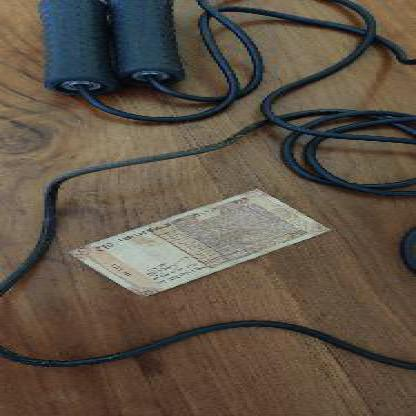New10Back: (62, 186, 332, 300)
